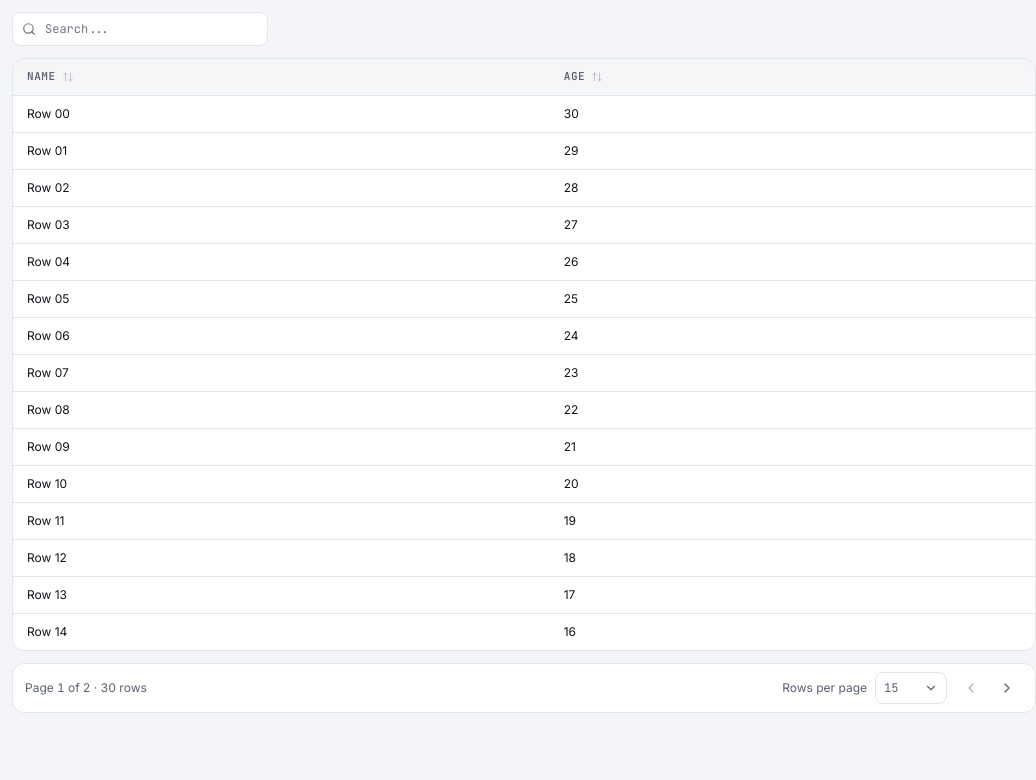
it: DataTable preferences › remembers the sort order under its storageKey
The image size is (1036, 780).
Name: first click ascending, second descending.
Click the button "Name". click: x=50, y=77
box: [27, 69, 74, 85]
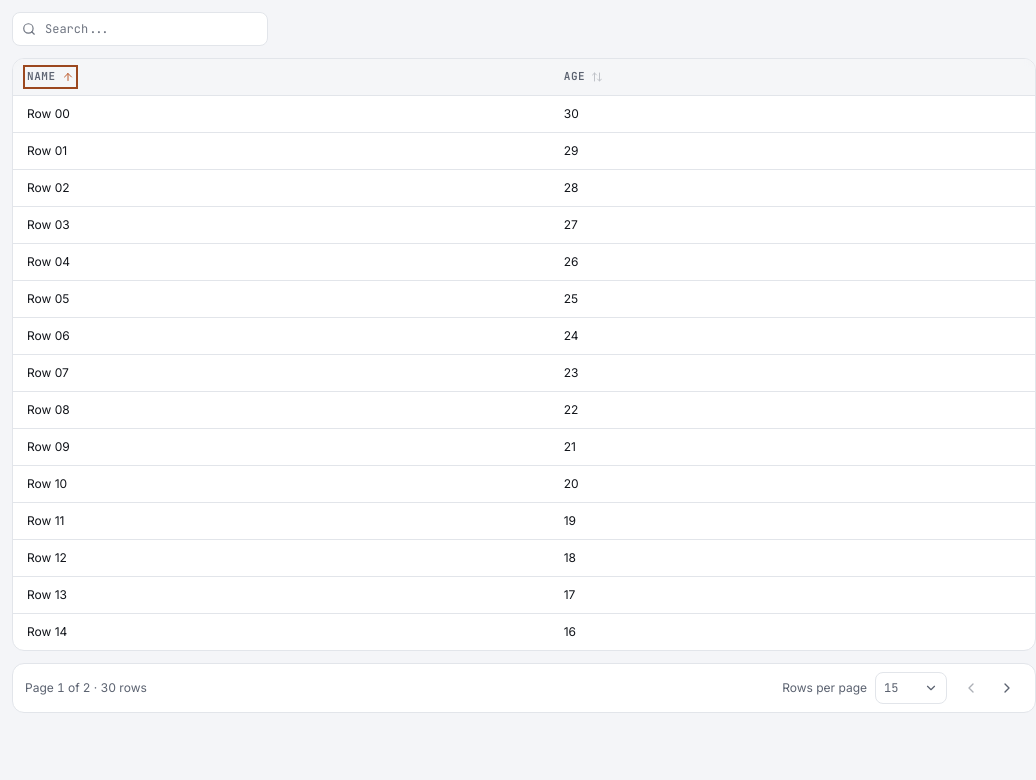
Click the button "Name". click: x=50, y=77
box: [27, 69, 74, 85]
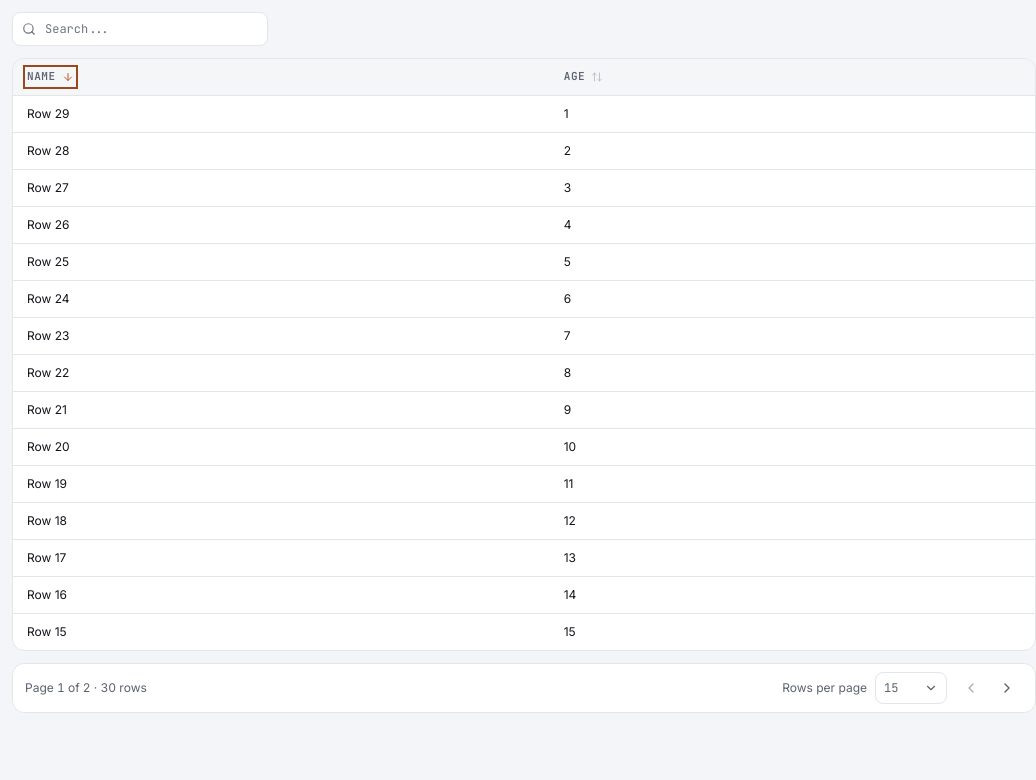
Expected: the cell "Row 29" is shown, [13, 95, 550, 132]
